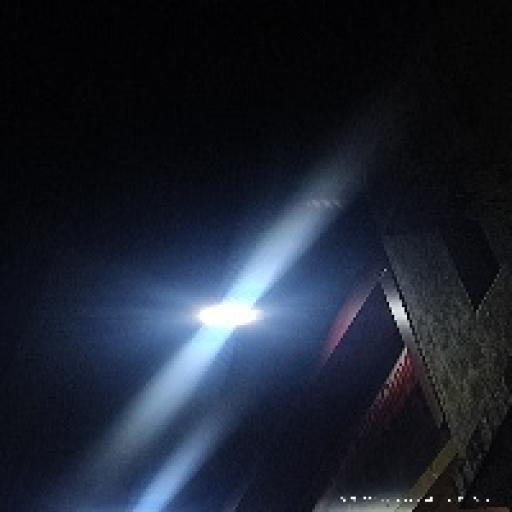Working: (188, 292, 284, 347)
